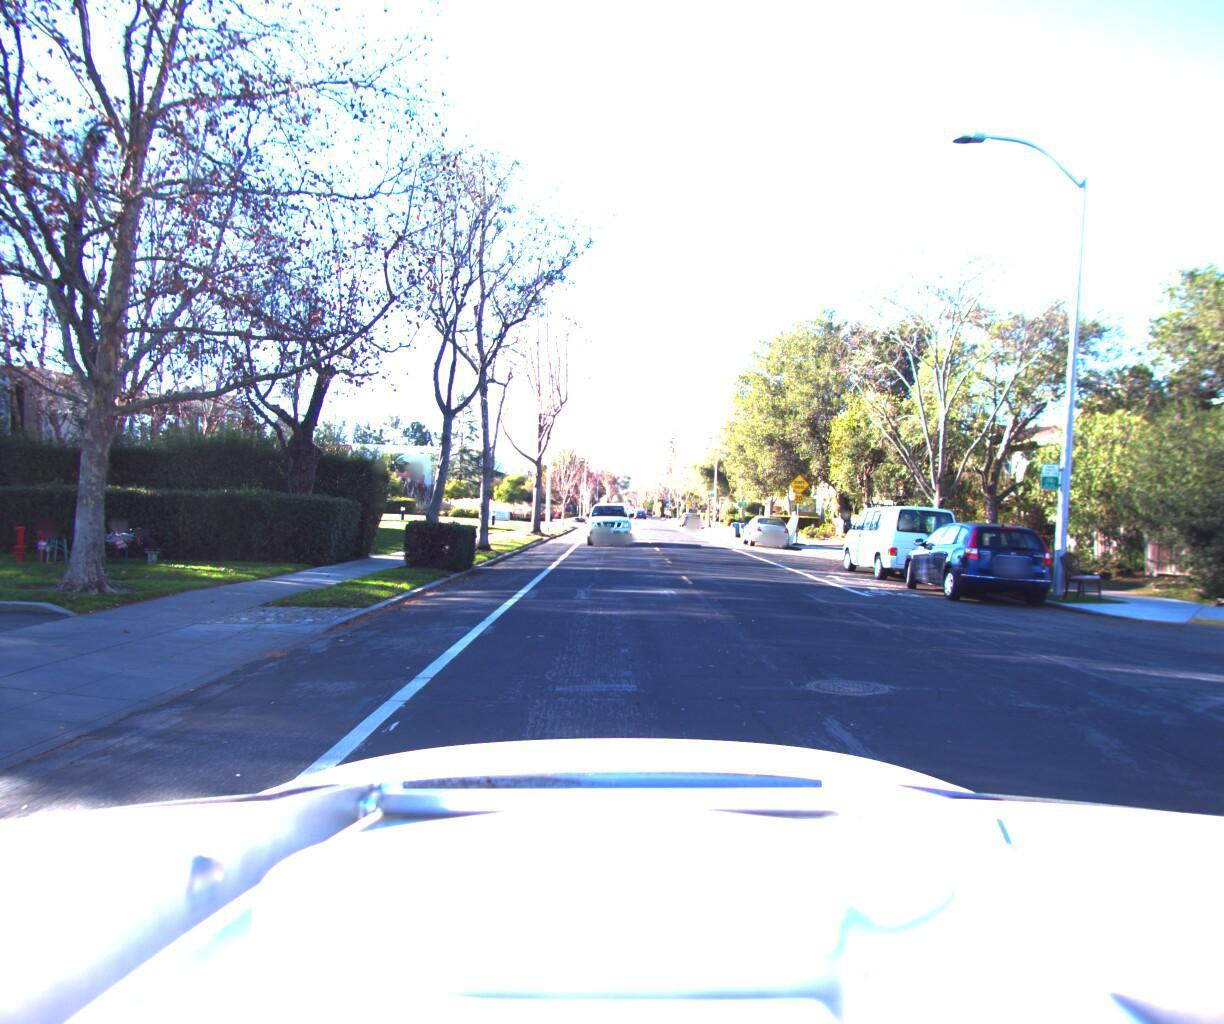car: (890, 521, 1064, 621), (833, 507, 966, 594), (582, 503, 632, 553), (739, 523, 791, 557), (676, 519, 699, 535)
